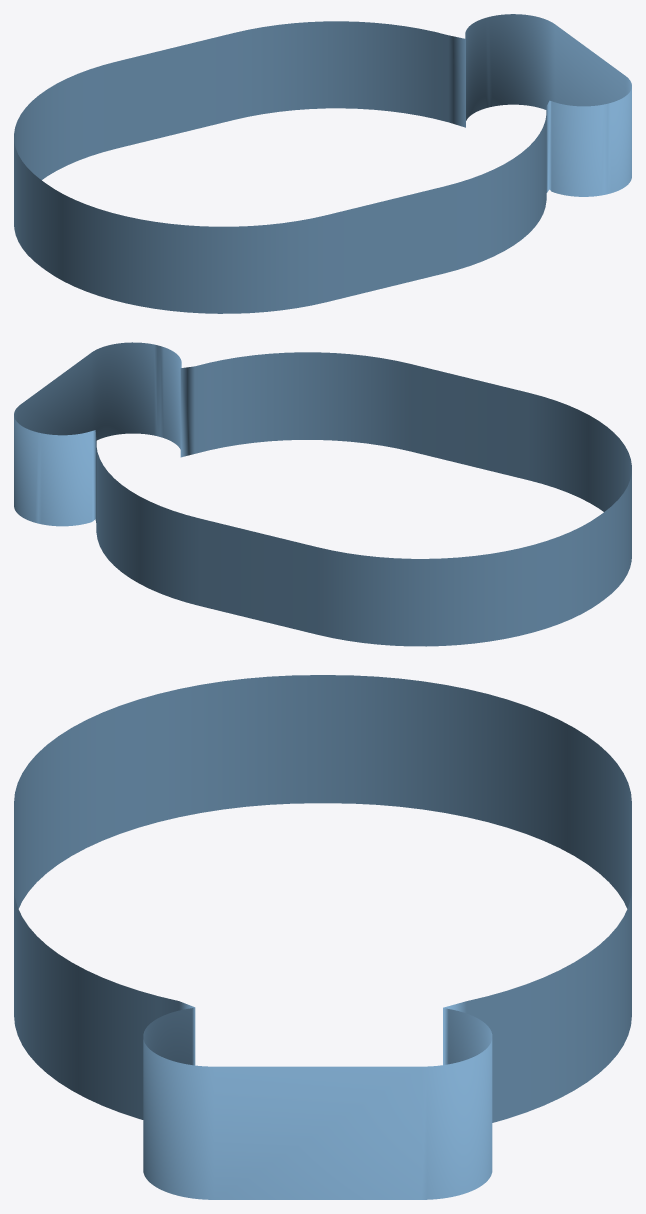
The model's file is C_Wall.fbx.
The picture shows the model from 3 angles, top to bottom: view 1: azimuth 30°, elevation 25°; view 2: azimuth 150°, elevation 25°; view 3: azimuth 270°, elevation 25°; orthographic projection. The views are drawn at different scales.
Parts seen in each view (by area): view 1: C_Wall; view 2: C_Wall; view 3: C_Wall.
Part boxes in pixels (x1=…): C_Wall: x1=14, y1=14, x2=631, y2=313; C_Wall: x1=14, y1=342, x2=631, y2=646; C_Wall: x1=14, y1=675, x2=631, y2=1199.
Bounding box in the file's own units: 29.33 × 4.66 × 19.56.
